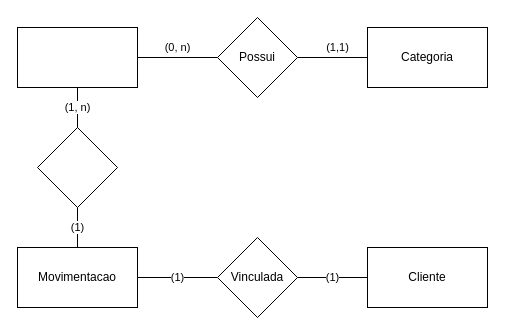
Some shapes in this 505 by 335 pixel diagram are drawn without their labels. The shapes that lost their labels are listed below. From the top down, each one's centre as x and y in pixels, then its label:
the point at 77,57: Produto
the point at 77,167: Contém
